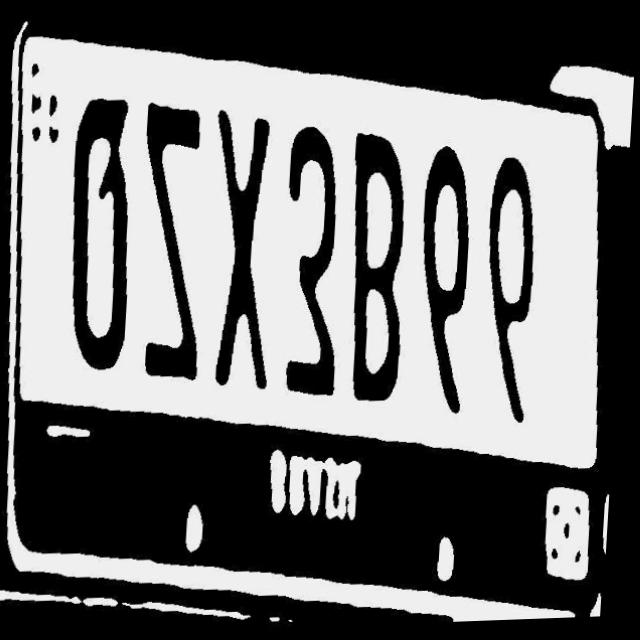3: (277, 122, 351, 402)
6: (414, 147, 480, 430), (480, 160, 547, 435)
b: (344, 134, 418, 411)
q: (62, 89, 146, 378)
x: (211, 111, 294, 401)
z: (143, 93, 225, 384)
